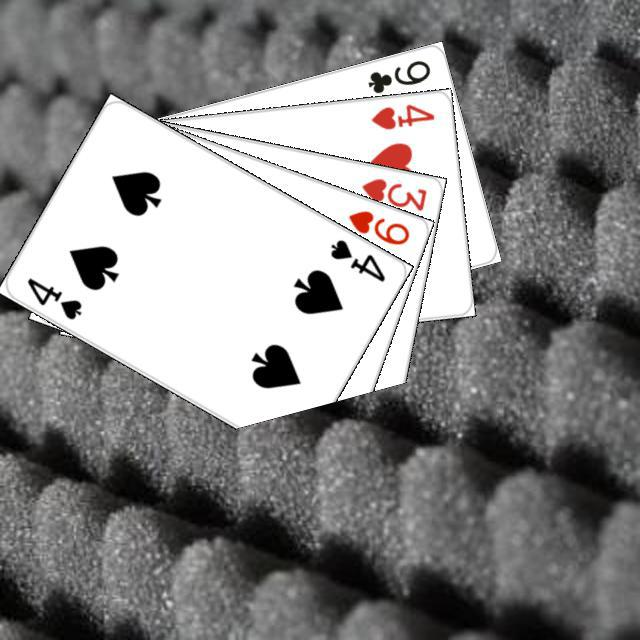3h: (356, 173, 429, 213)
4h: (366, 99, 436, 132)
4s: (21, 272, 84, 322), (325, 234, 387, 284)
9c: (363, 55, 432, 95)
9h: (343, 205, 412, 247)
